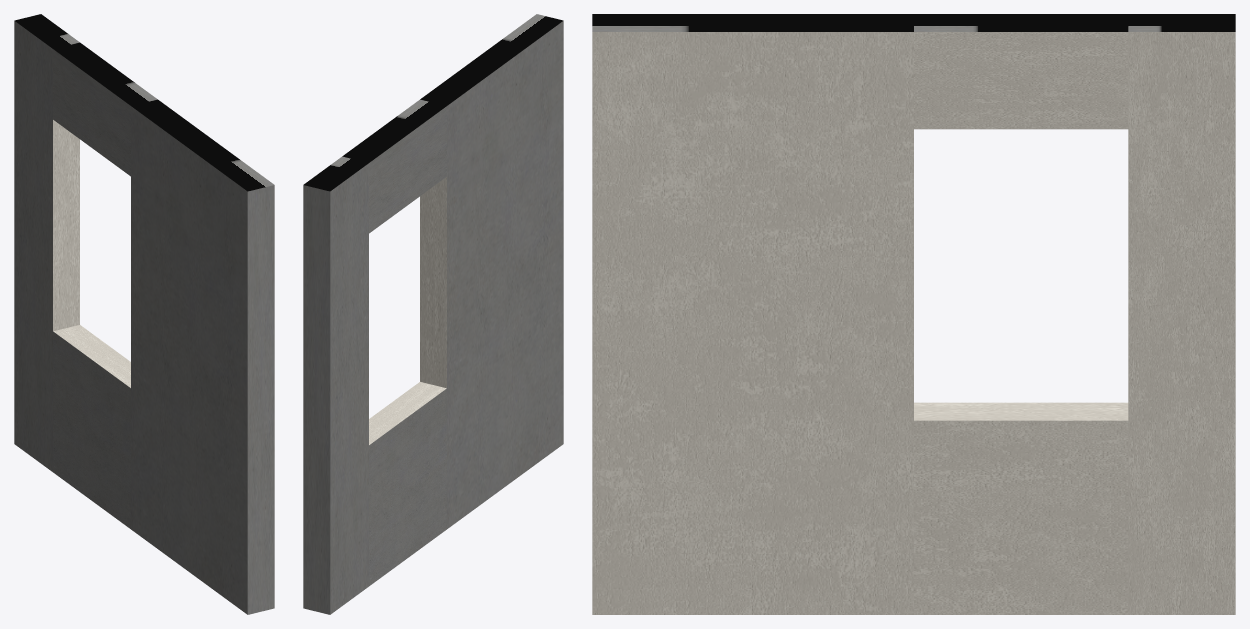
File: wall_window_outside.glb
3 views of the same model, side by side, from view 1: azimuth 30°, elevation 25°; view 2: azimuth 150°, elevation 25°; view 3: azimuth 270°, elevation 25° (orthographic). The views are drawn at different scales.
Parts seen in each view (by area): view 1: Cube, Cube.002, Cube.003, Cube.001; view 2: Cube, Cube.002, Cube.003, Cube.001; view 3: Cube, Cube.002, Cube.003, Cube.001.
Boxes of the visible parts, <box> form: Cube: <box>131,99,274,614</box>; Cube.002: <box>14,14,79,471</box>; Cube.003: <box>53,325,130,528</box>; Cube.001: <box>53,42,157,176</box>; Cube: <box>420,14,563,528</box>; Cube.002: <box>303,156,368,614</box>; Cube.003: <box>369,382,446,586</box>; Cube.001: <box>342,99,446,233</box>; Cube: <box>592,14,913,614</box>; Cube.002: <box>1128,14,1235,614</box>; Cube.003: <box>914,402,1128,614</box>; Cube.001: <box>914,14,1128,129</box>.
Bounding box in the file's own units: 0.2 × 3 × 3.
1 material, 1 textured.
